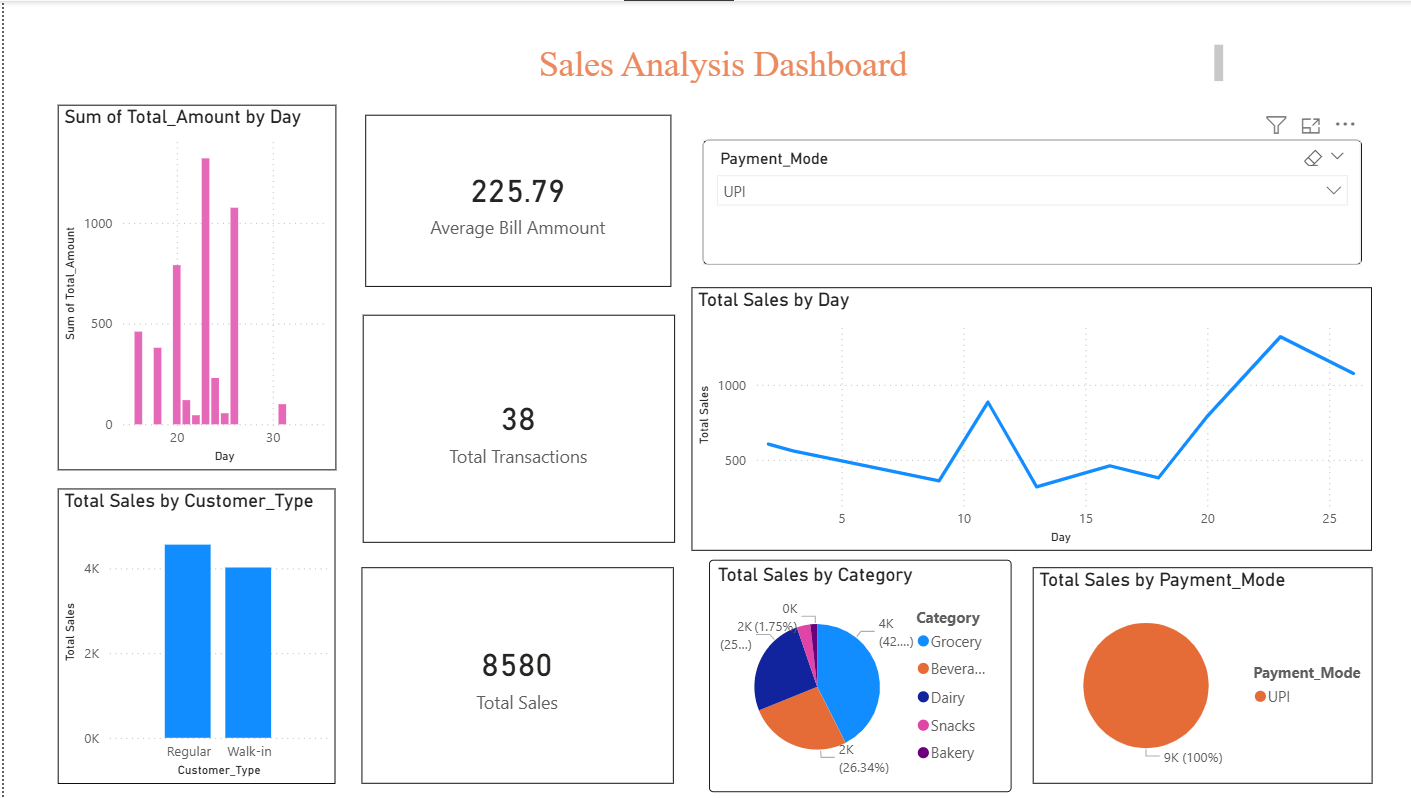

The dashboard page shown, as its layout file describes it:
{"tool":"powerbi","page":{"name":"Page 1","canvas":[1280,720],"ordinal":0},"visuals":[{"type":"columnChart","fields":{"Category":["kirana_shop_big_dataset.Date.Variation.Date Hierarchy.Day"],"Y":["Sum(kirana_shop_big_dataset.Total_Amount)"]},"box":[48,93.3,251.1,329.3],"z":0},{"type":"columnChart","fields":{"Category":["kirana_shop_big_dataset.Customer_Type"],"Y":["kirana_shop_big_dataset.Total Sales"]},"box":[48.5,439.6,250.2,266],"z":1000},{"type":"card","fields":{"Values":["kirana_shop_big_dataset.Total Sales"]},"box":[322.5,510.5,281.3,194.9],"z":2001},{"type":"card","fields":{"Values":["kirana_shop_big_dataset.Total Transactions"]},"box":[323.8,282.7,281.3,205.8],"z":2002},{"type":"card","fields":{"Values":["kirana_shop_big_dataset.Average Bill Ammount"]},"box":[325.2,102.9,275.8,155.1],"z":2003},{"type":"pieChart","fields":{"Category":["kirana_shop_big_dataset.Category"],"Y":["kirana_shop_big_dataset.Total Sales"]},"box":[635.3,503.6,273.1,209.9],"z":2004},{"type":"pieChart","fields":{"Category":["kirana_shop_big_dataset.Payment_Mode"],"Y":["kirana_shop_big_dataset.Total Sales"]},"box":[927.6,510.5,306,194.9],"z":2005},{"type":"lineChart","fields":{"Category":["kirana_shop_big_dataset.Date.Variation.Date Hierarchy.Day"],"Y":["kirana_shop_big_dataset.Total Sales"]},"box":[620.2,258,613.4,237.4],"z":2006},{"type":"slicer","fields":{"Values":["kirana_shop_big_dataset.Payment_Mode"]},"box":[629.8,124.9,594.2,112.5],"z":2007},{"type":"textbox","box":[97.4,34.3,1007.2,45.3],"z":2008}]}

Visuals, with their boxes in screenshot pixels (x1, y1, x2, y2), scaled from the page's 1280x720 canvas onto the 1411x798 screenshot:
columnChart - kirana_shop_big_dataset.Date.Variation.Date Hierarchy.Day x Sum(kirana_shop_big_dataset.Total_Amount): (53, 103, 330, 468)
columnChart - kirana_shop_big_dataset.Customer_Type x kirana_shop_big_dataset.Total Sales: (53, 487, 329, 782)
card - kirana_shop_big_dataset.Total Sales: (356, 566, 666, 782)
card - kirana_shop_big_dataset.Total Transactions: (357, 313, 667, 541)
card - kirana_shop_big_dataset.Average Bill Ammount: (358, 114, 663, 286)
pieChart - kirana_shop_big_dataset.Category x kirana_shop_big_dataset.Total Sales: (700, 558, 1001, 791)
pieChart - kirana_shop_big_dataset.Payment_Mode x kirana_shop_big_dataset.Total Sales: (1023, 566, 1360, 782)
lineChart - kirana_shop_big_dataset.Date.Variation.Date Hierarchy.Day x kirana_shop_big_dataset.Total Sales: (684, 286, 1360, 549)
slicer - kirana_shop_big_dataset.Payment_Mode: (694, 138, 1349, 263)
textbox: (107, 38, 1218, 88)
